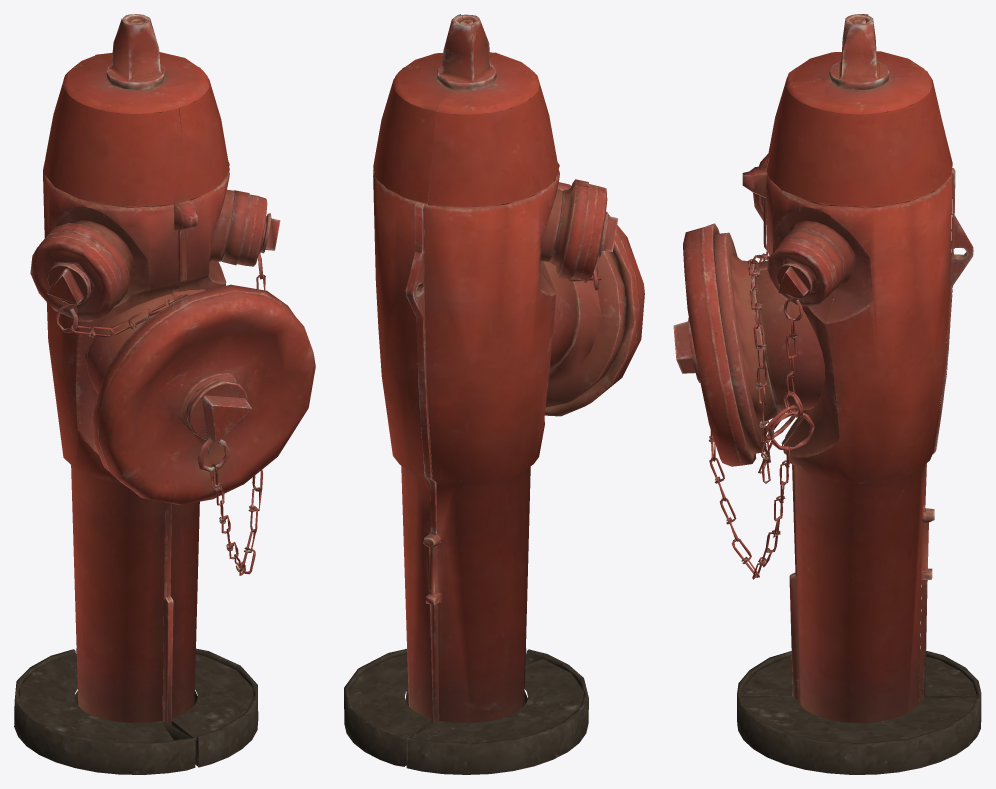
Rendered from ph_hydrant.glb.
3 views of the same model, side by side, from view 1: azimuth 30°, elevation 25°; view 2: azimuth 150°, elevation 25°; view 3: azimuth 270°, elevation 25° (orthographic).
Parts seen in each view (by area): view 1: fire_hydrant, fire_hydrant_cap_01, fire_hydrant_cap_03, fire_hydrant_chain, fire_hydrant_cap_02; view 2: fire_hydrant, fire_hydrant_cap_01, fire_hydrant_cap_03; view 3: fire_hydrant, fire_hydrant_cap_01, fire_hydrant_chain, fire_hydrant_cap_02.
Part boxes in pixels (left/top/right/bottom): fire_hydrant: left=14, top=14, right=258, bottom=774; fire_hydrant_cap_01: left=92, top=284, right=315, bottom=504; fire_hydrant_cap_03: left=30, top=232, right=121, bottom=321; fire_hydrant_chain: left=53, top=216, right=267, bottom=575; fire_hydrant_cap_02: left=237, top=194, right=280, bottom=266; fire_hydrant: left=344, top=14, right=625, bottom=774; fire_hydrant_cap_01: left=424, top=182, right=644, bottom=416; fire_hydrant_cap_03: left=572, top=184, right=618, bottom=280; fire_hydrant: left=714, top=14, right=981, bottom=774; fire_hydrant_cap_01: left=673, top=223, right=756, bottom=466; fire_hydrant_chain: left=709, top=251, right=814, bottom=579; fire_hydrant_cap_02: left=767, top=238, right=836, bottom=306.
Size of the model in its own units: 0.2745 by 0.8003 by 0.3173.
Materials: 1 (1 with a texture image).
